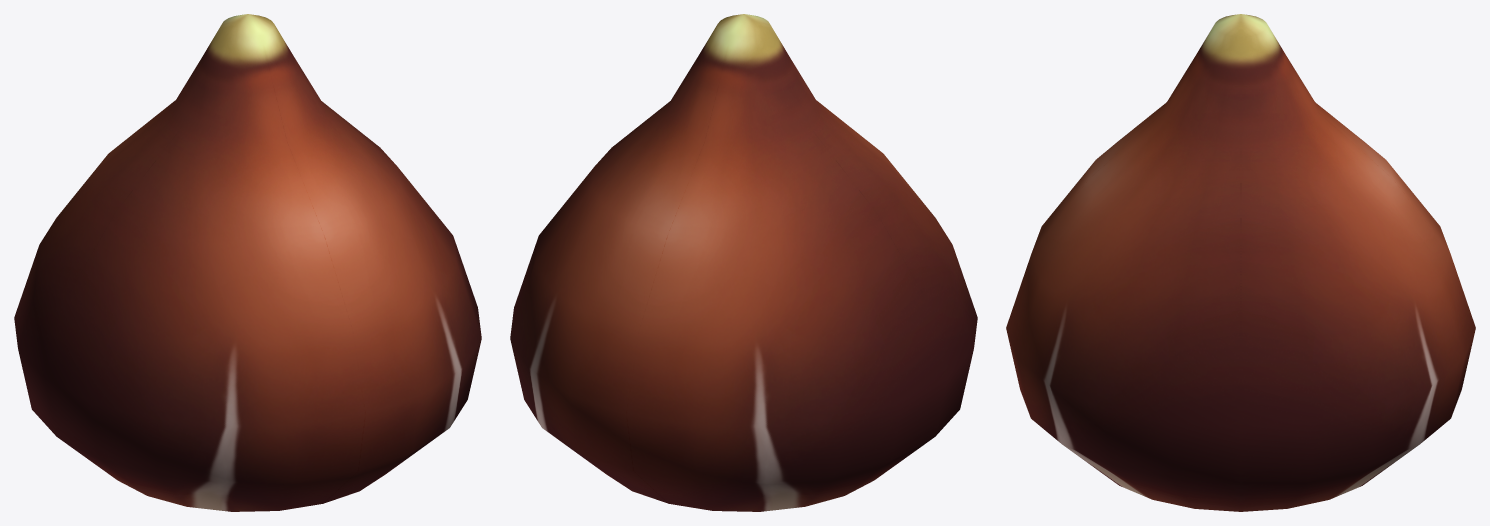
Rendered from zhongzi.FBX.
The picture shows the model from 3 angles, left to right: view 1: azimuth 30°, elevation 25°; view 2: azimuth 150°, elevation 25°; view 3: azimuth 270°, elevation 25°; orthographic projection.
Parts seen in each view (by area): view 1: zhongzi; view 2: zhongzi; view 3: zhongzi.
Part boxes in pixels (<box>): zhongzi: <box>14,14,481,511</box>; zhongzi: <box>510,14,977,511</box>; zhongzi: <box>1006,14,1475,511</box>.
Bounding box in the file's own units: 99.24 × 113 × 99.24.
